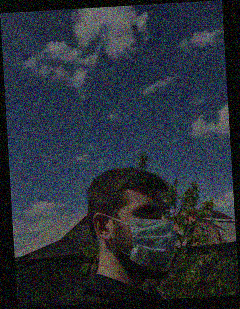with_mask: (125, 198, 176, 276)
